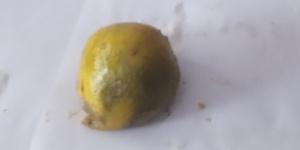BAD: (78, 23, 178, 131)
